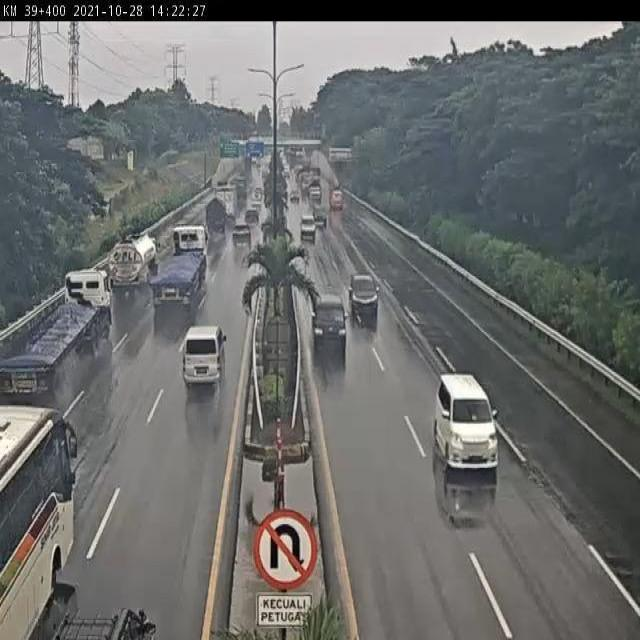bus-l-: (0, 406, 78, 638)
car: (433, 371, 499, 473), (181, 324, 228, 388), (309, 292, 349, 353)
truck-l-: (212, 185, 237, 224)
truck-m-: (109, 231, 159, 288), (203, 196, 228, 240)
truck-xl-: (0, 266, 114, 406), (153, 223, 209, 309)
